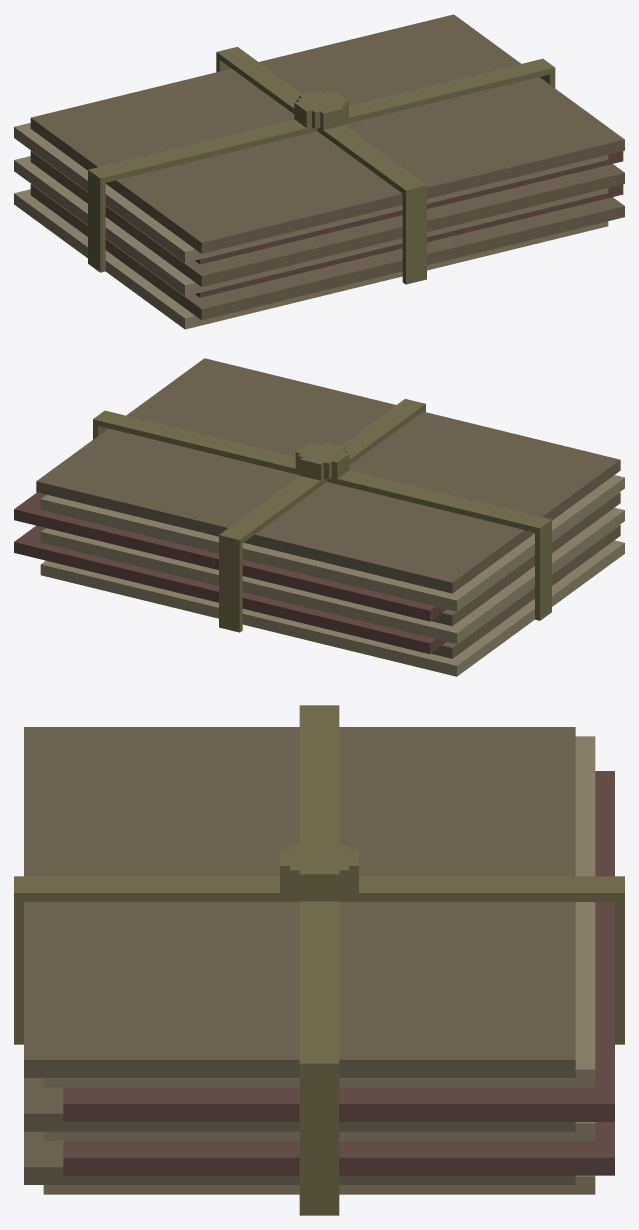
File: bundle_rag.glb
3 views of the same model, one above another, from view 1: azimuth 30°, elevation 25°; view 2: azimuth 150°, elevation 25°; view 3: azimuth 270°, elevation 25° (orthographic). The views are drawn at different scales.
Parts seen in each view (by area): view 1: bundle_rag:compound; view 2: bundle_rag:compound; view 3: bundle_rag:compound.
Boxes of the visible parts, bbox=[...] form: bundle_rag:compound: bbox=[14, 14, 624, 329]; bundle_rag:compound: bbox=[14, 358, 624, 676]; bundle_rag:compound: bbox=[14, 705, 624, 1215].
Size of the model in its own units: 0.172 by 0.04 by 0.124.
